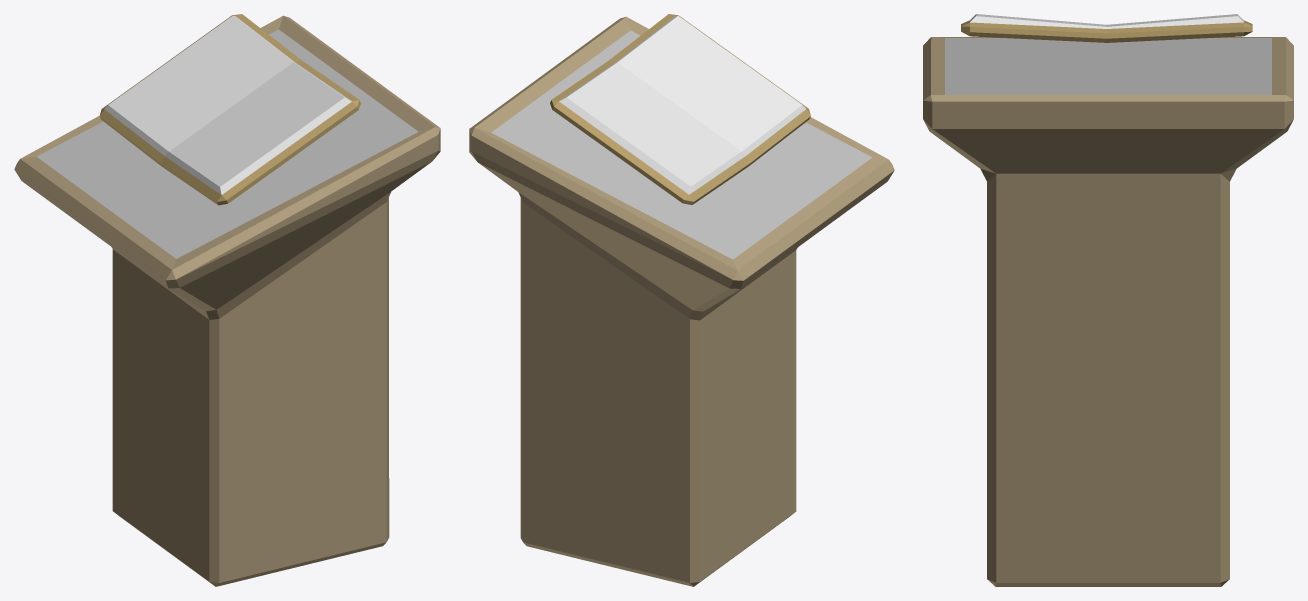
File: Defands.fbx
3 renders of one model, left to right at view 1: azimuth 30°, elevation 25°; view 2: azimuth 150°, elevation 25°; view 3: azimuth 270°, elevation 25°, orthographic. The views are drawn at different scales.
Parts seen in each view (by area): view 1: Кафедра; view 2: Кафедра; view 3: Кафедра.
Part boxes in pixels (box(x1,y1,x2,y2)): Кафедра: box(14, 14, 440, 586); Кафедра: box(469, 14, 894, 586); Кафедра: box(923, 14, 1293, 586).
Size of the model in its own units: 193 by 312 by 193.
